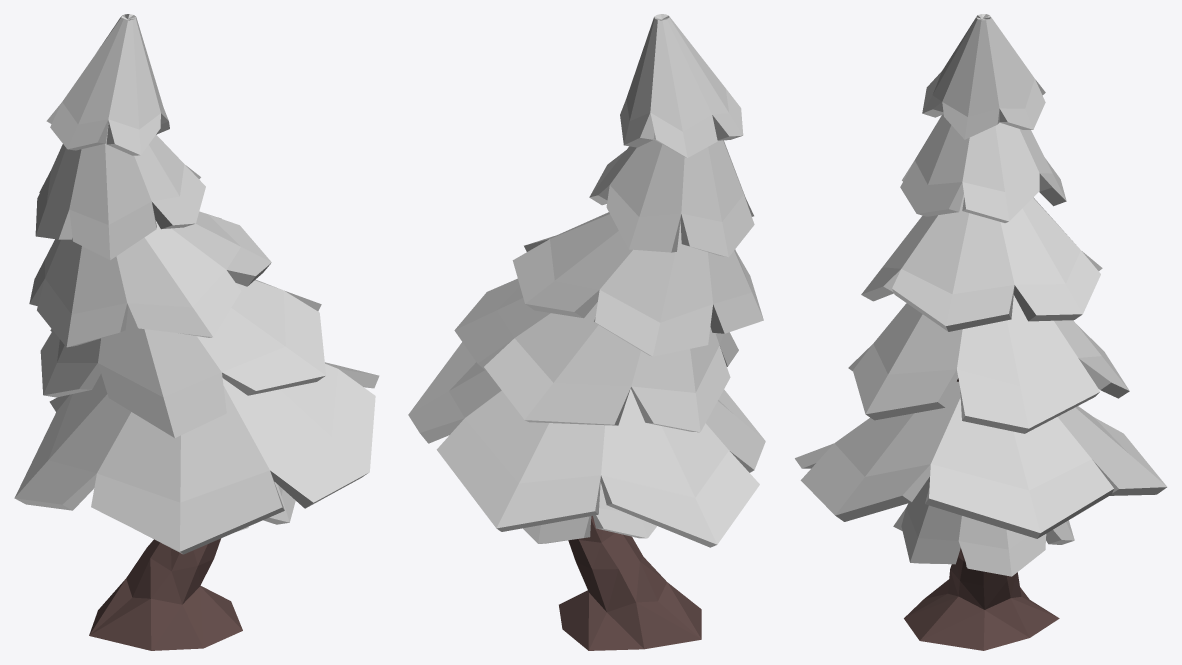
Rendered from spruce_tree.fbx.
3 views of the same model, side by side, from view 1: azimuth 30°, elevation 25°; view 2: azimuth 150°, elevation 25°; view 3: azimuth 270°, elevation 25° (orthographic). The views are drawn at different scales.
Parts seen in each view (by area): view 1: Circle, Cylinder; view 2: Circle, Cylinder; view 3: Circle, Cylinder.
Part boxes in pixels (bbox=[...]): Circle: bbox=[14, 14, 379, 554]; Cylinder: bbox=[89, 538, 242, 650]; Circle: bbox=[408, 14, 765, 547]; Cylinder: bbox=[559, 516, 701, 650]; Circle: bbox=[795, 14, 1166, 576]; Cylinder: bbox=[904, 378, 1059, 650].
Bounding box in the file's own units: 469 × 888 × 512.
